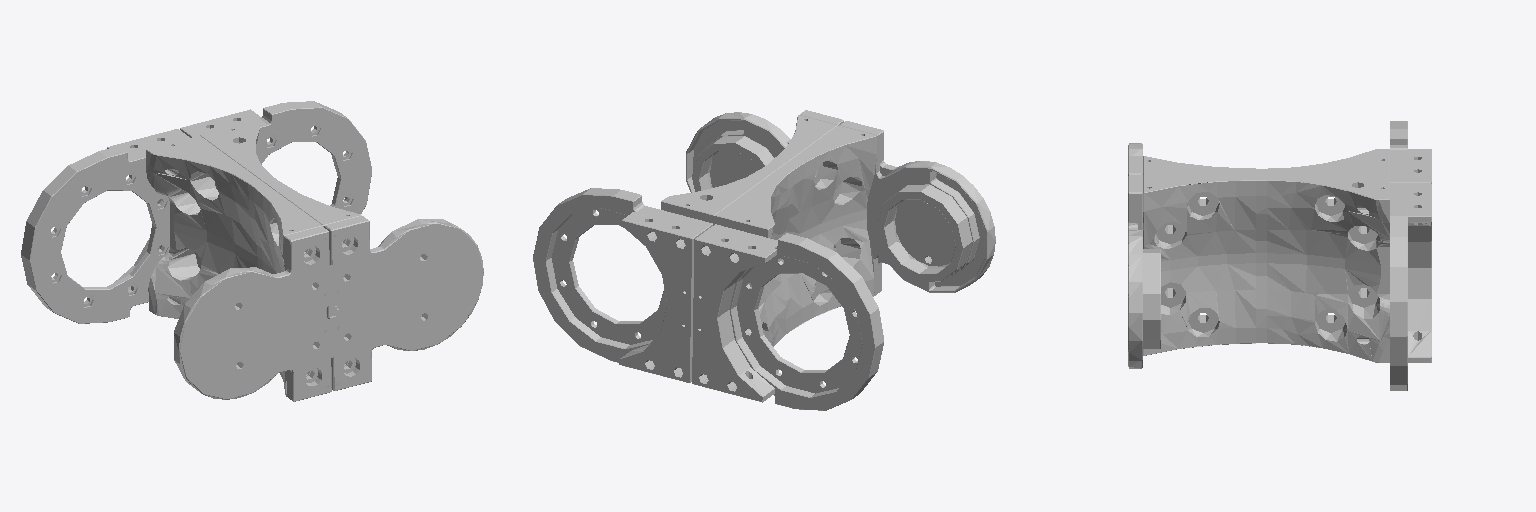
File: armanbindung_3.obj
3 views of the same model, side by side, from view 1: azimuth 30°, elevation 25°; view 2: azimuth 150°, elevation 25°; view 3: azimuth 270°, elevation 25° (orthographic).
Size of the model in its own units: 0.217 by 0.1021 by 0.166.